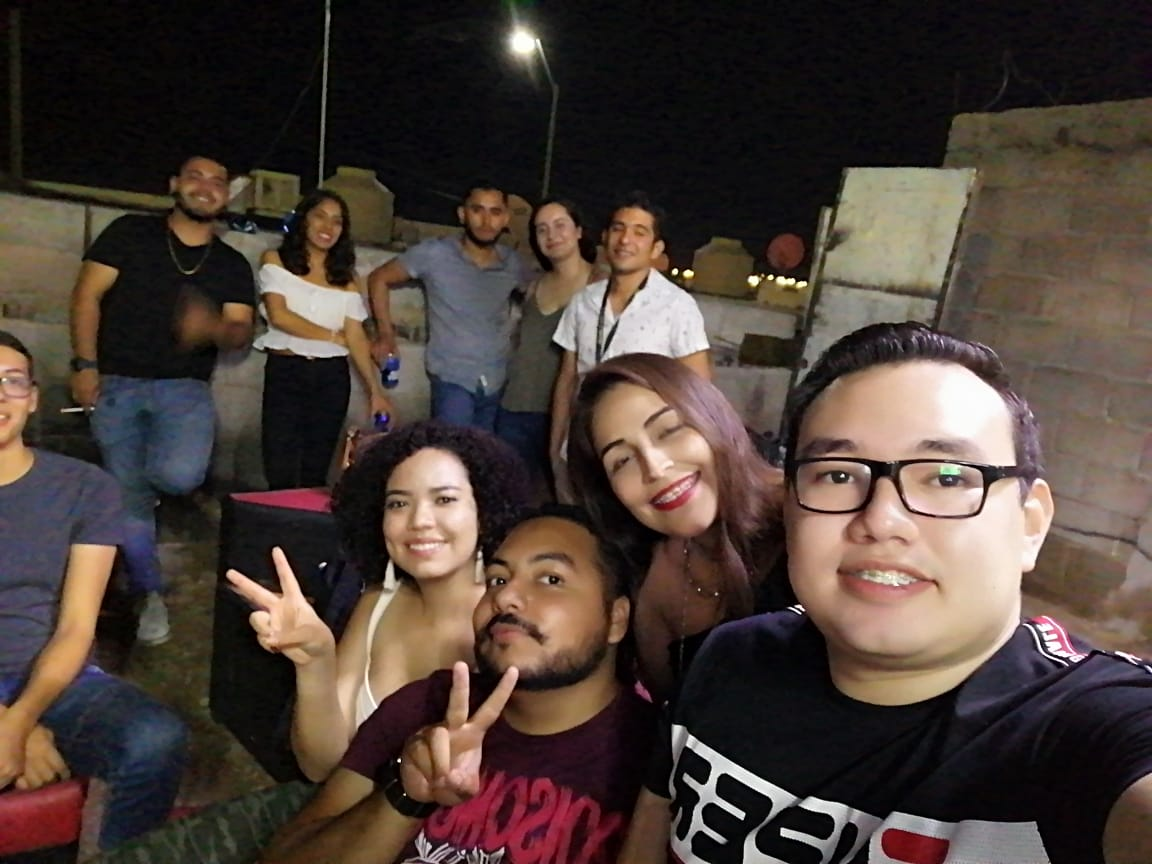Yoshi: (468, 493, 628, 720)
